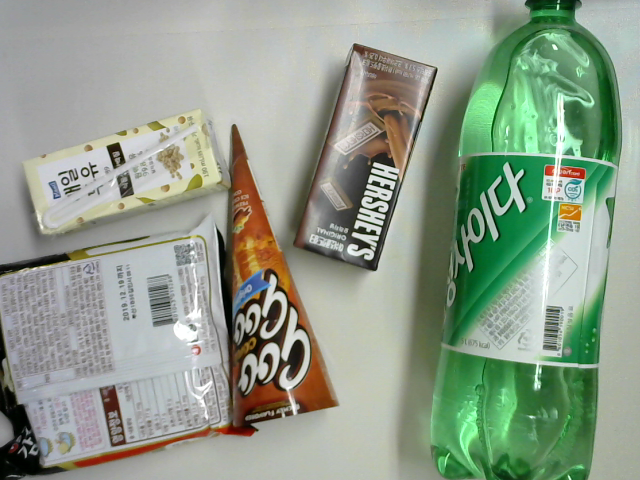99.89_Soymilk: (17, 102, 239, 248)
Chilseong_Cider_1.5L: (419, 1, 635, 478)
GooGoo_Cone_CVS: (212, 114, 345, 435)
Hush_Choco_Drink: (290, 39, 441, 284)
Potato: (1, 200, 256, 480)
